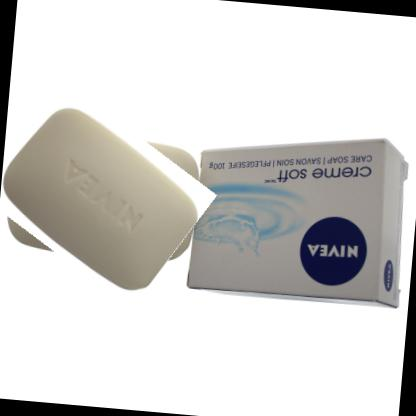soap: (0, 95, 214, 295)
